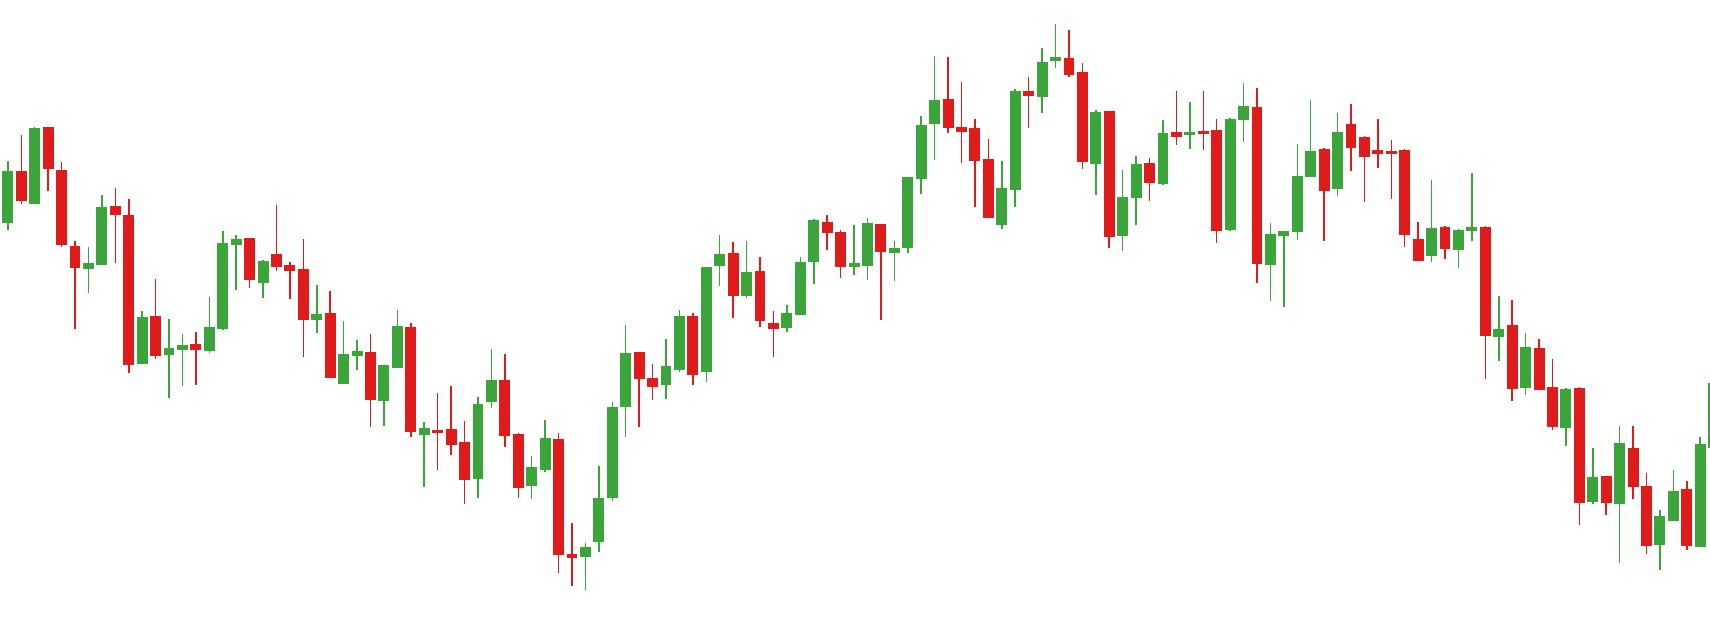buy: (1104, 151, 1290, 308)
